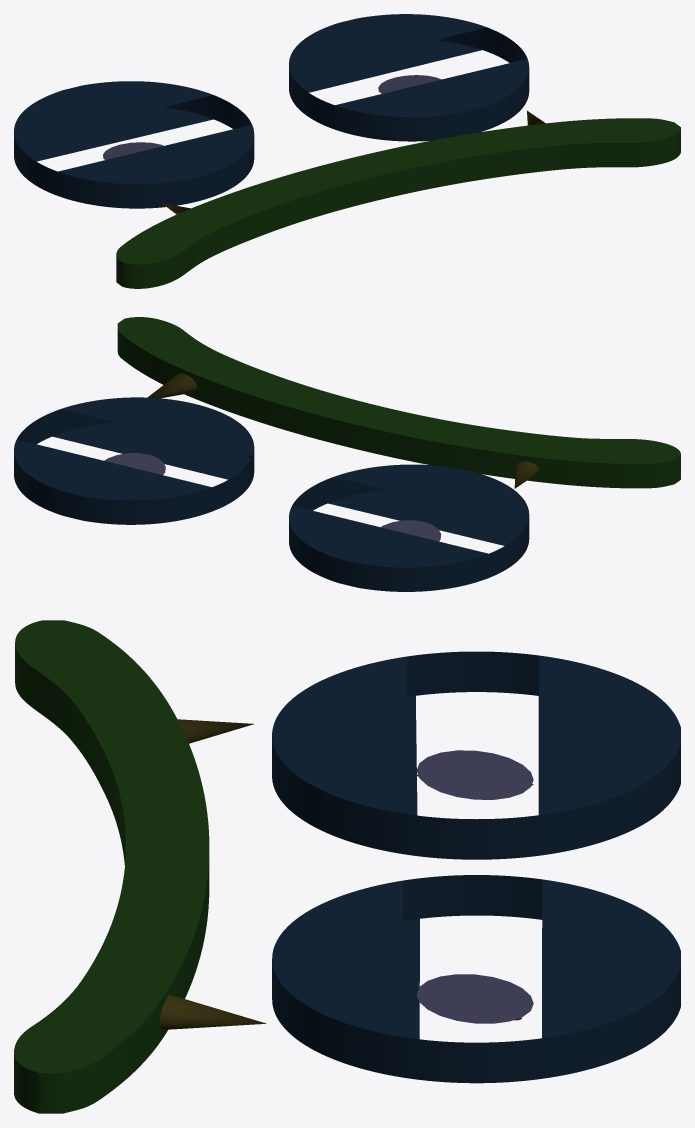
The model's file is SlimeFace.fbx.
The picture shows the model from 3 angles, top to bottom: view 1: azimuth 30°, elevation 25°; view 2: azimuth 150°, elevation 25°; view 3: azimuth 270°, elevation 25°; orthographic projection. The views are drawn at different scales.
Visible parts, largest first — view 1: Face; view 2: Face; view 3: Face.
Part boxes in pixels (left/top/right/bottom): Face: left=14, top=14, right=680, bottom=288; Face: left=14, top=317, right=680, bottom=591; Face: left=14, top=620, right=680, bottom=1113.
Bounding box in the file's own units: 0.828 × 0.0401 × 0.5152.
